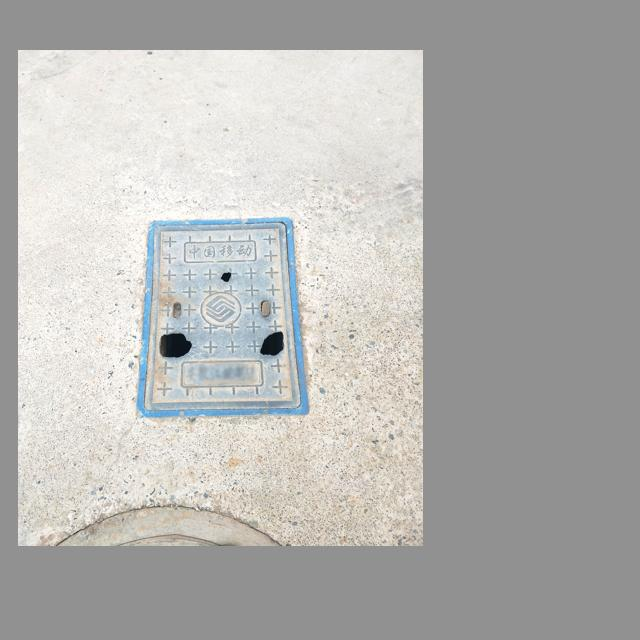broke: (137, 216, 311, 417)
